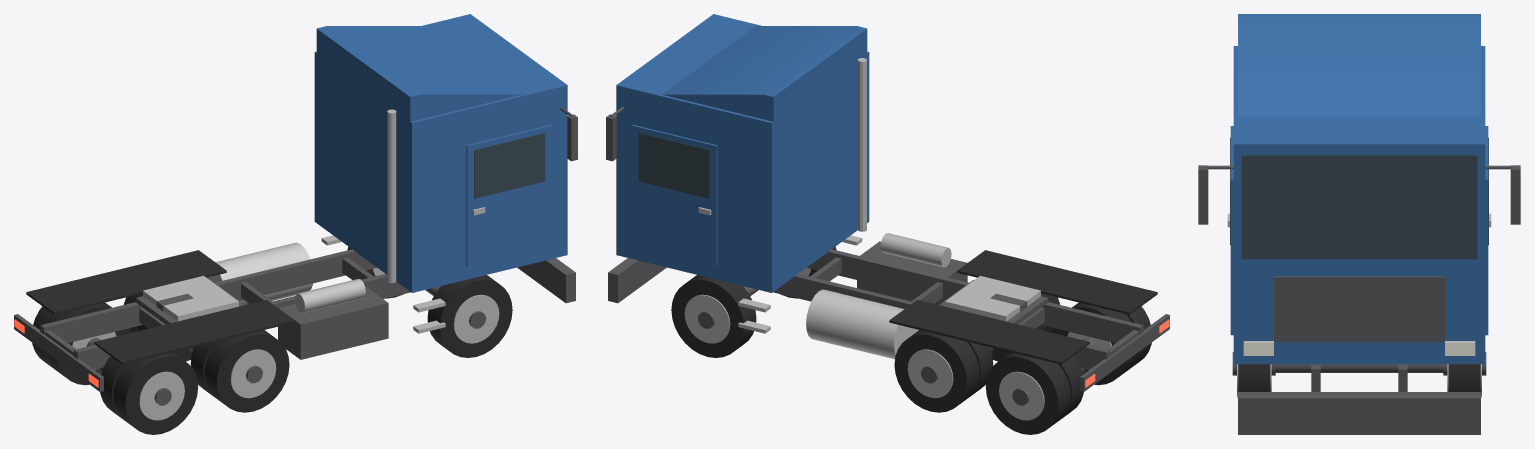
File: SM_TractorUnit.fbx
3 renders of one model, left to right at view 1: azimuth 30°, elevation 25°; view 2: azimuth 150°, elevation 25°; view 3: azimuth 270°, elevation 25°, orthographic. The views are drawn at different scales.
Parts seen in each view (by area): view 1: TU_Chassis, TU_Door_R, TU_Wheel_A3R, TU_Wheel_A2R, TU_Wheel_A1R, TU_Wheel_A3L2, TU_Wheel_A3R2, TU_Wheel_A2R2; view 2: TU_Chassis, TU_Door_L, TU_Wheel_A3L, TU_Wheel_A2L, TU_Wheel_A1L, TU_Wheel_A3R2, TU_Wheel_A3L2, TU_Wheel_A2L2; view 3: TU_Chassis, TU_Wheel_A1L, TU_Wheel_A1R, TU_Door_L, TU_Door_R.
Part boxes in pixels (x1,y1,x2,y2): TU_Chassis: [14, 14, 577, 391]; TU_Door_R: [466, 124, 551, 266]; TU_Wheel_A3R: [113, 352, 197, 434]; TU_Wheel_A2R: [204, 330, 289, 412]; TU_Wheel_A1R: [427, 275, 512, 357]; TU_Wheel_A3L2: [46, 302, 129, 385]; TU_Wheel_A3R2: [100, 356, 125, 420]; TU_Wheel_A2R2: [190, 341, 216, 396]; TU_Chassis: [606, 14, 1169, 391]; TU_Door_L: [632, 124, 717, 266]; TU_Wheel_A3L: [986, 352, 1070, 434]; TU_Wheel_A2L: [894, 330, 979, 412]; TU_Wheel_A1L: [671, 275, 756, 357]; TU_Wheel_A3R2: [1054, 302, 1137, 385]; TU_Wheel_A3L2: [1058, 356, 1083, 420]; TU_Wheel_A2L2: [967, 341, 993, 396]; TU_Chassis: [1198, 14, 1520, 434]; TU_Wheel_A1L: [1443, 352, 1486, 397]; TU_Wheel_A1R: [1232, 352, 1275, 397]; TU_Door_L: [1485, 126, 1491, 335]; TU_Door_R: [1227, 126, 1233, 335].
Bounding box in the file's own units: 699 × 390 × 319.
